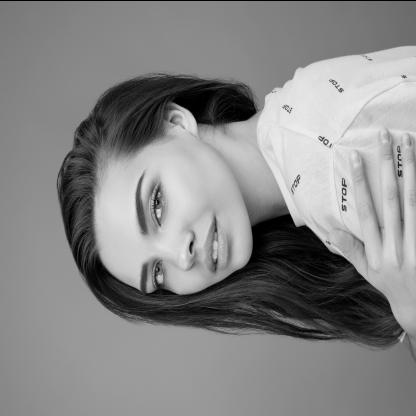Eye: (149, 181, 166, 227), (152, 259, 166, 289)
Mouth: (204, 216, 228, 272)
Nose: (158, 229, 196, 269)
